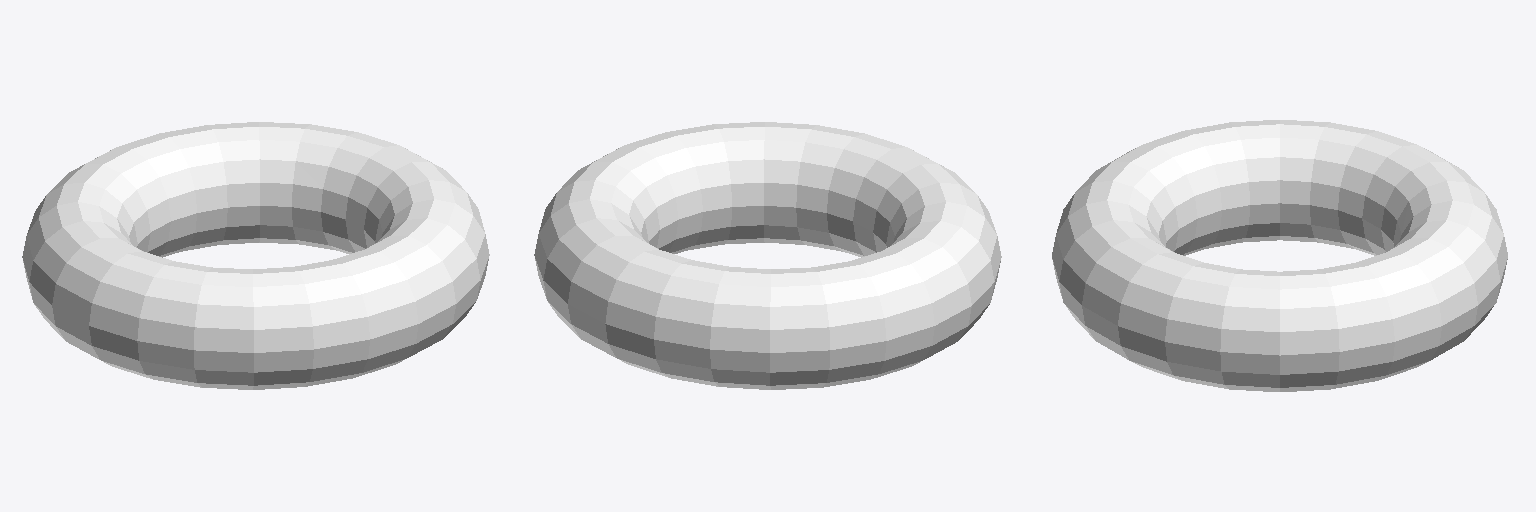
File: cursor.obj
The picture shows the model from 3 angles: view 1: azimuth 30°, elevation 25°; view 2: azimuth 150°, elevation 25°; view 3: azimuth 270°, elevation 25°; orthographic projection.
Parts seen in each view (by area): view 1: cursor; view 2: cursor; view 3: cursor.
Boxes of the visible parts, x1,y1,x2,y2 form: cursor: [22, 122, 489, 389]; cursor: [534, 122, 1001, 389]; cursor: [1052, 120, 1507, 391].
Size of the model in its own units: 0.8484 by 0.2212 by 0.8225.